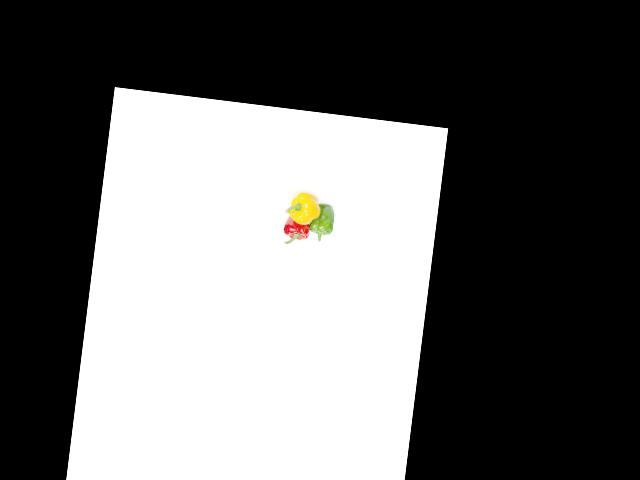bell_pepper: (277, 210, 315, 250)
